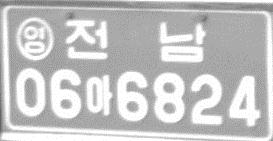0: (14, 66, 46, 117)
2: (189, 73, 223, 126)
4: (227, 75, 262, 127)
6: (49, 67, 82, 120), (116, 70, 149, 123)
8: (152, 71, 186, 124)
아: (85, 74, 114, 117)
영: (14, 16, 54, 61)
전남_D: (64, 19, 206, 63)
